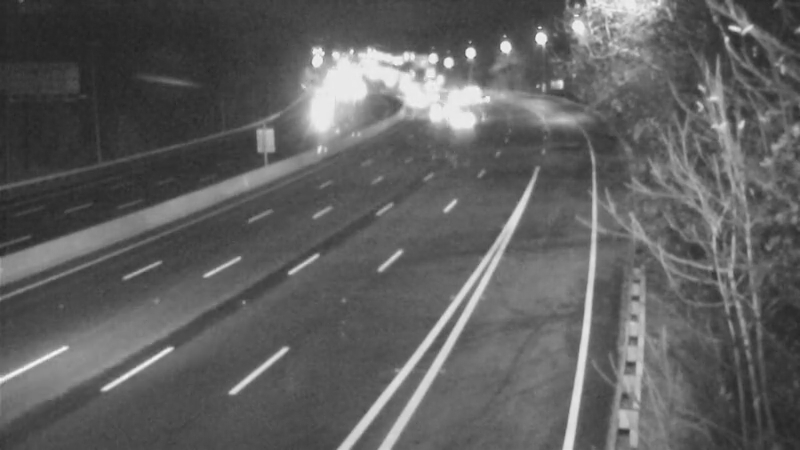vehicle: (412, 85, 462, 135), (438, 93, 488, 143), (296, 91, 346, 141)
